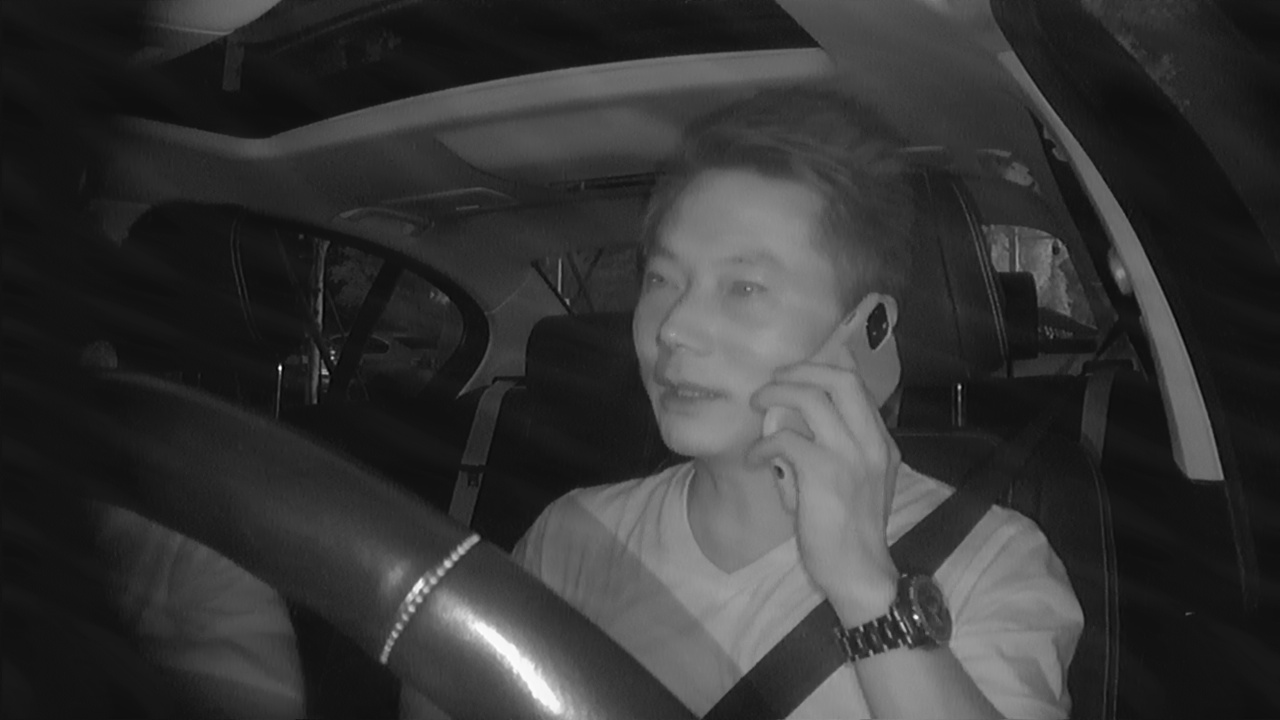hand: (750, 352, 907, 571)
